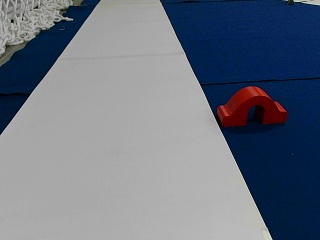bridge: (218, 86, 286, 124)
